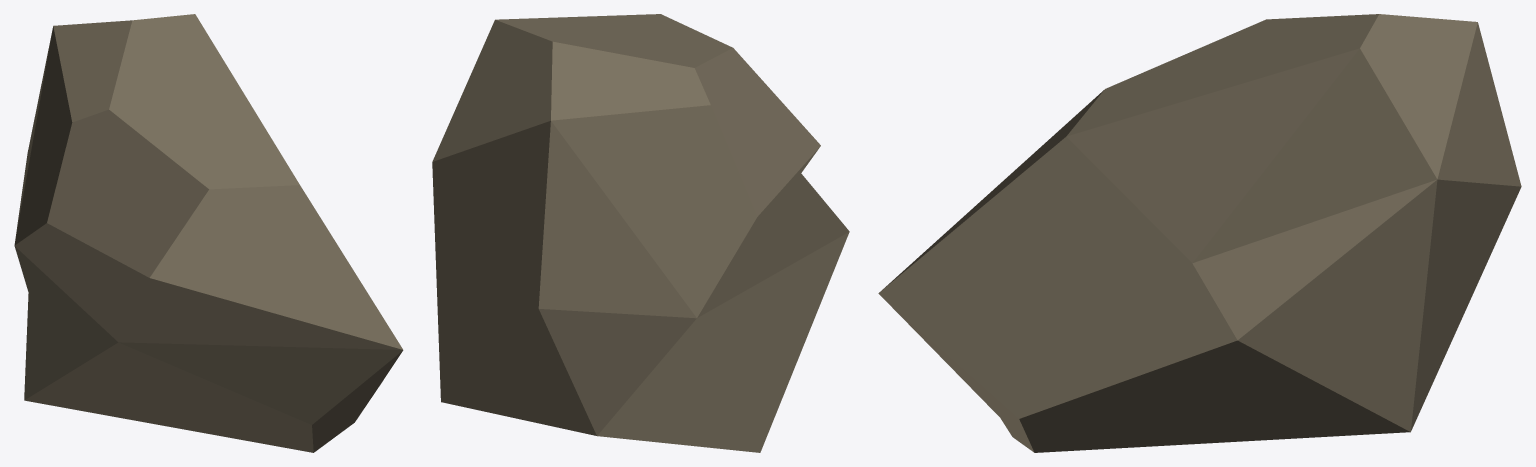
The model's file is Rock_6.fbx.
3 views of the same model, side by side, from view 1: azimuth 30°, elevation 25°; view 2: azimuth 150°, elevation 25°; view 3: azimuth 270°, elevation 25° (orthographic). The views are drawn at different scales.
Visible parts, largest first — view 1: rock_6; view 2: rock_6; view 3: rock_6.
Boxes of the visible parts, x1,y1,x2,y2 form: rock_6: (14,14,403,452); rock_6: (432,14,849,452); rock_6: (878,14,1521,452).
Size of the model in its own units: 52.15 by 60.56 by 87.3.
